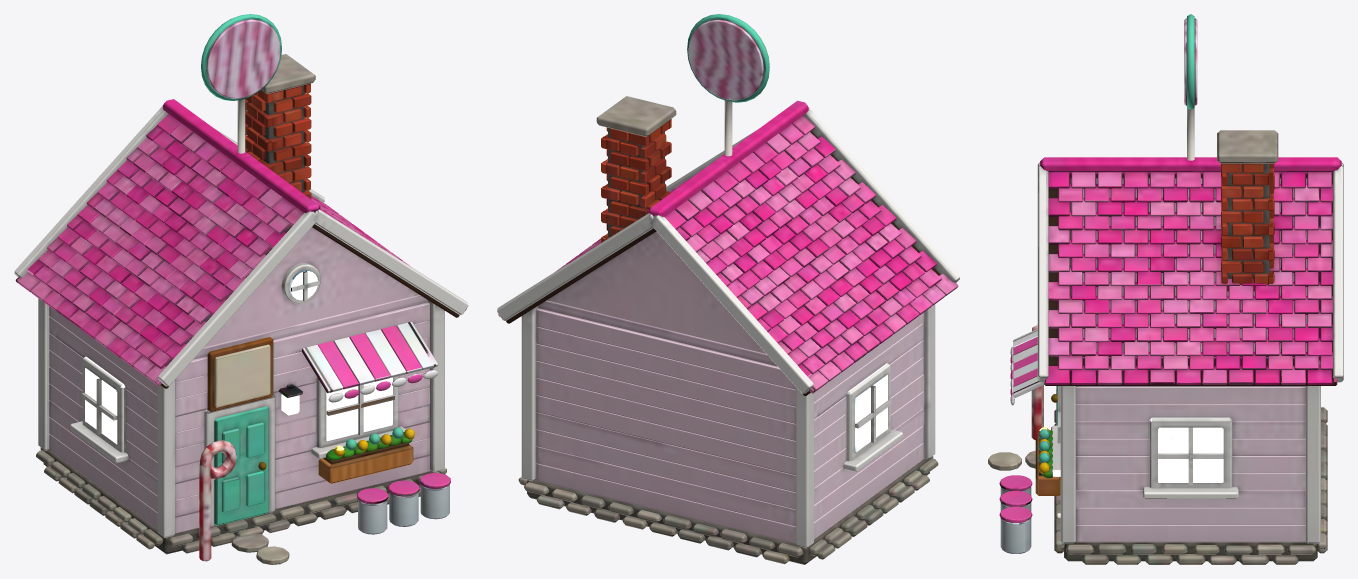
Rendered from candy_shop.glb.
The picture shows the model from 3 angles, left to right: view 1: azimuth 30°, elevation 25°; view 2: azimuth 150°, elevation 25°; view 3: azimuth 270°, elevation 25°; orthographic projection. The views are drawn at different scales.
Parts seen in each view (by area): view 1: candy_shop; view 2: candy_shop; view 3: candy_shop.
Part boxes in pixels (bbox=[...]): candy_shop: bbox=[14, 14, 468, 564]; candy_shop: bbox=[497, 14, 959, 564]; candy_shop: bbox=[988, 14, 1343, 564].
Bounding box in the file's own units: 1.68 × 2.4 × 1.63.
1 material, 1 textured.
